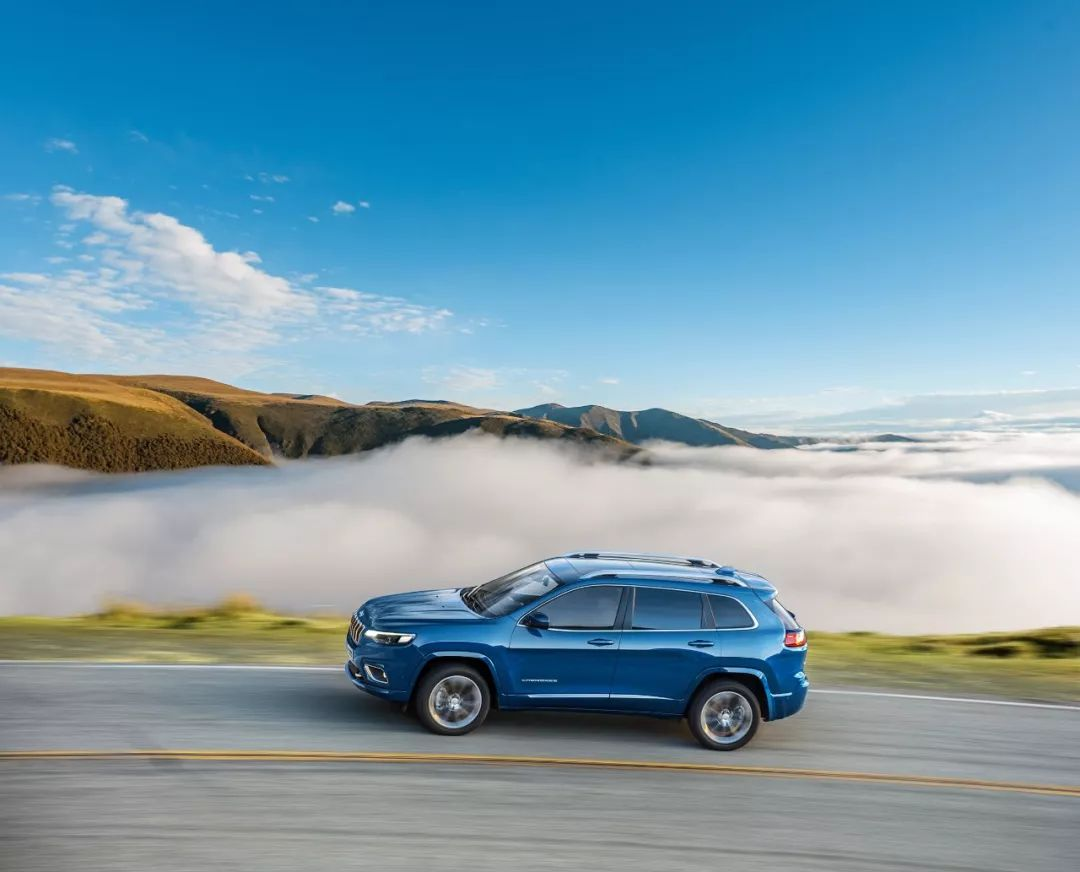car: (347, 550, 814, 750)
